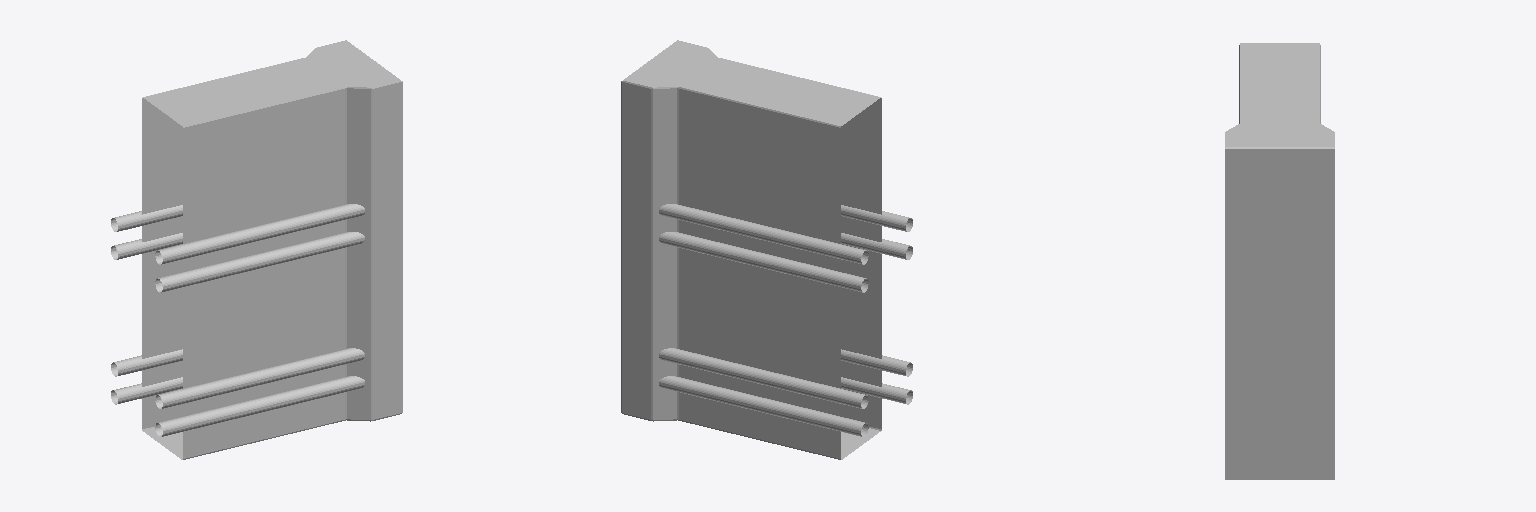
Rendered from door_2_gate.obj.
3 views of the same model, side by side, from view 1: azimuth 30°, elevation 25°; view 2: azimuth 150°, elevation 25°; view 3: azimuth 270°, elevation 25° (orthographic).
Parts seen in each view (by area): view 1: Cube.007; view 2: Cube.007; view 3: Cube.007.
Boxes of the visible parts, x1=… form: Cube.007: x1=111, y1=40, x2=402, y2=459; Cube.007: x1=621, y1=40, x2=912, y2=459; Cube.007: x1=1225, y1=43, x2=1334, y2=479.
Bounding box in the file's own units: 2.24 × 3 × 0.9023.